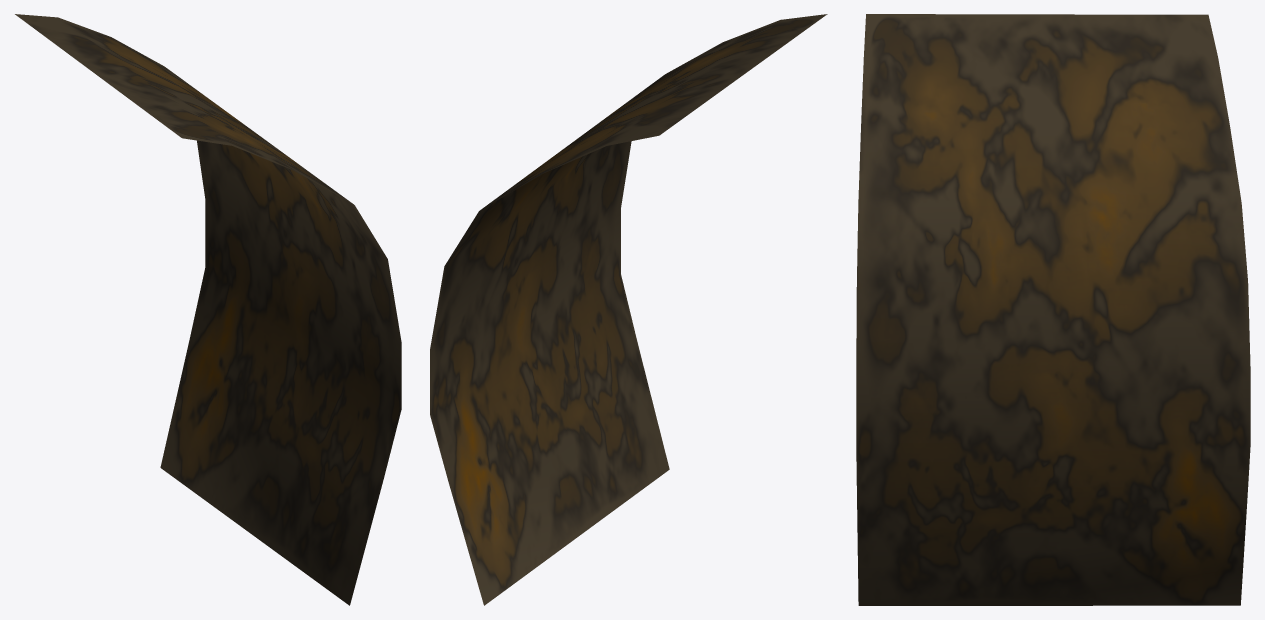
Rendered from Tunnel_4.fbx.
3 renders of one model, left to right at view 1: azimuth 30°, elevation 25°; view 2: azimuth 150°, elevation 25°; view 3: azimuth 270°, elevation 25°, orthographic. The views are drawn at different scales.
Visible parts, largest first — view 1: CaveTunnel_1__9_.004; view 2: CaveTunnel_1__9_.004; view 3: CaveTunnel_1__9_.004.
Boxes of the visible parts, x1,y1,x2,y2 form: CaveTunnel_1__9_.004: (15,14,401,605); CaveTunnel_1__9_.004: (430,14,827,605); CaveTunnel_1__9_.004: (856,14,1250,605).
Bounding box in the file's own units: 993 × 2233 × 1562.
